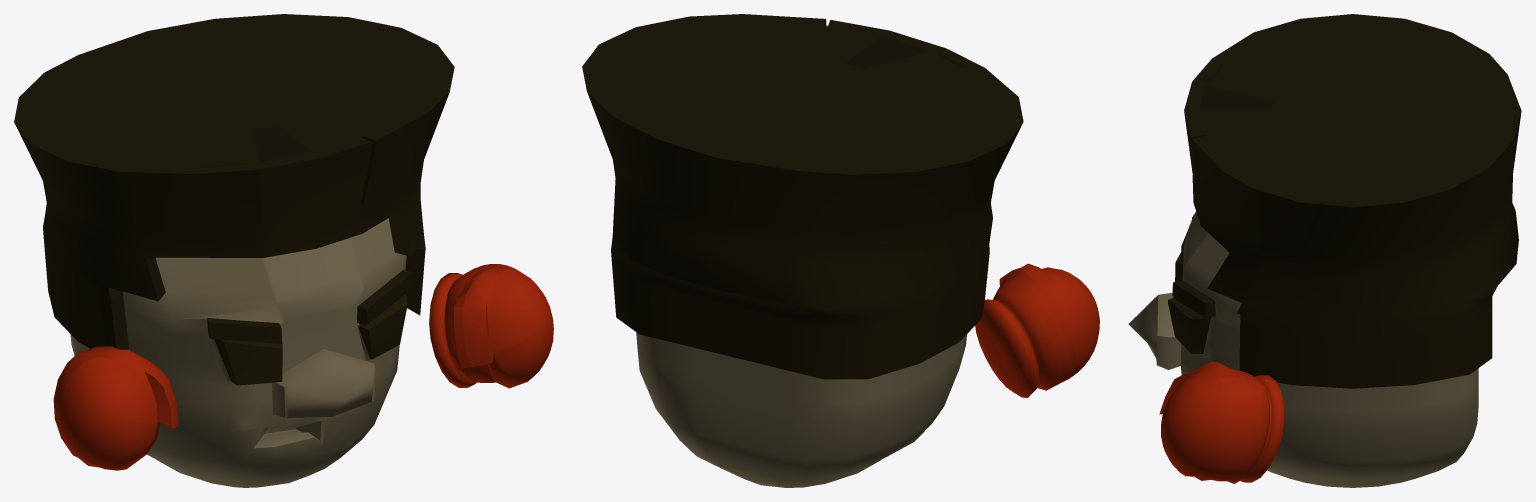
File: 4enemy.fbx
The picture shows the model from 3 angles, left to right: view 1: azimuth 30°, elevation 25°; view 2: azimuth 150°, elevation 25°; view 3: azimuth 270°, elevation 25°; orthographic projection. The views are drawn at different scales.
Parts seen in each view (by area): view 1: enemy_4; view 2: enemy_4; view 3: enemy_4.
Part boxes in pixels (x1=…): enemy_4: x1=14, y1=14, x2=553, y2=487; enemy_4: x1=582, y1=14, x2=1099, y2=487; enemy_4: x1=1128, y1=14, x2=1521, y2=487.
Size of the model in its own units: 3.75 by 2.86 by 2.8.
